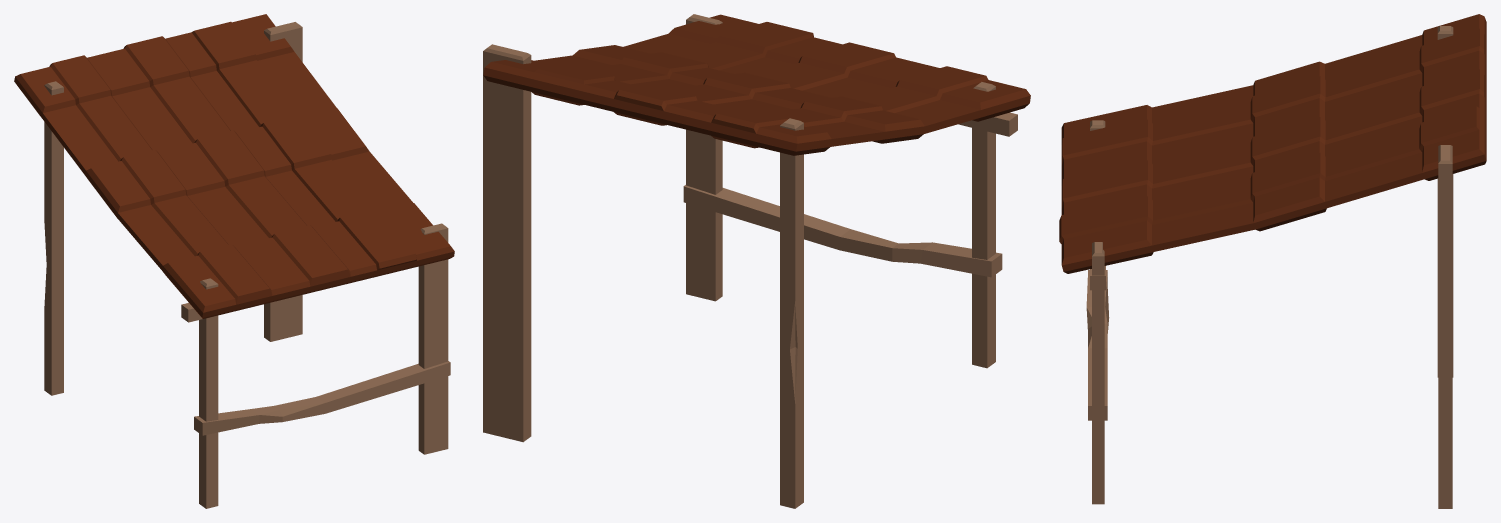
Rendered from House_02_Addition.fbx.
3 renders of one model, left to right at view 1: azimuth 30°, elevation 25°; view 2: azimuth 150°, elevation 25°; view 3: azimuth 270°, elevation 25°, orthographic. The views are drawn at different scales.
Parts seen in each view (by area): view 1: House_02_Addition; view 2: House_02_Addition; view 3: House_02_Addition.
Part boxes in pixels (x1=…): House_02_Addition: x1=14, y1=14, x2=454, y2=508; House_02_Addition: x1=483, y1=14, x2=1030, y2=508; House_02_Addition: x1=1059, y1=14, x2=1486, y2=508.
Size of the model in its own units: 308 by 344 by 377.
Materials: 1 (1 with a texture image).
